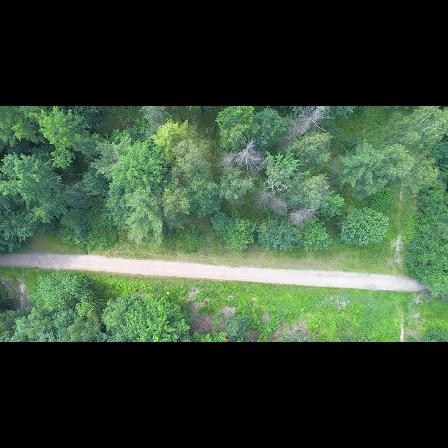Dead: (284, 106, 328, 154), (229, 140, 259, 171), (255, 185, 289, 211), (284, 207, 312, 226)
